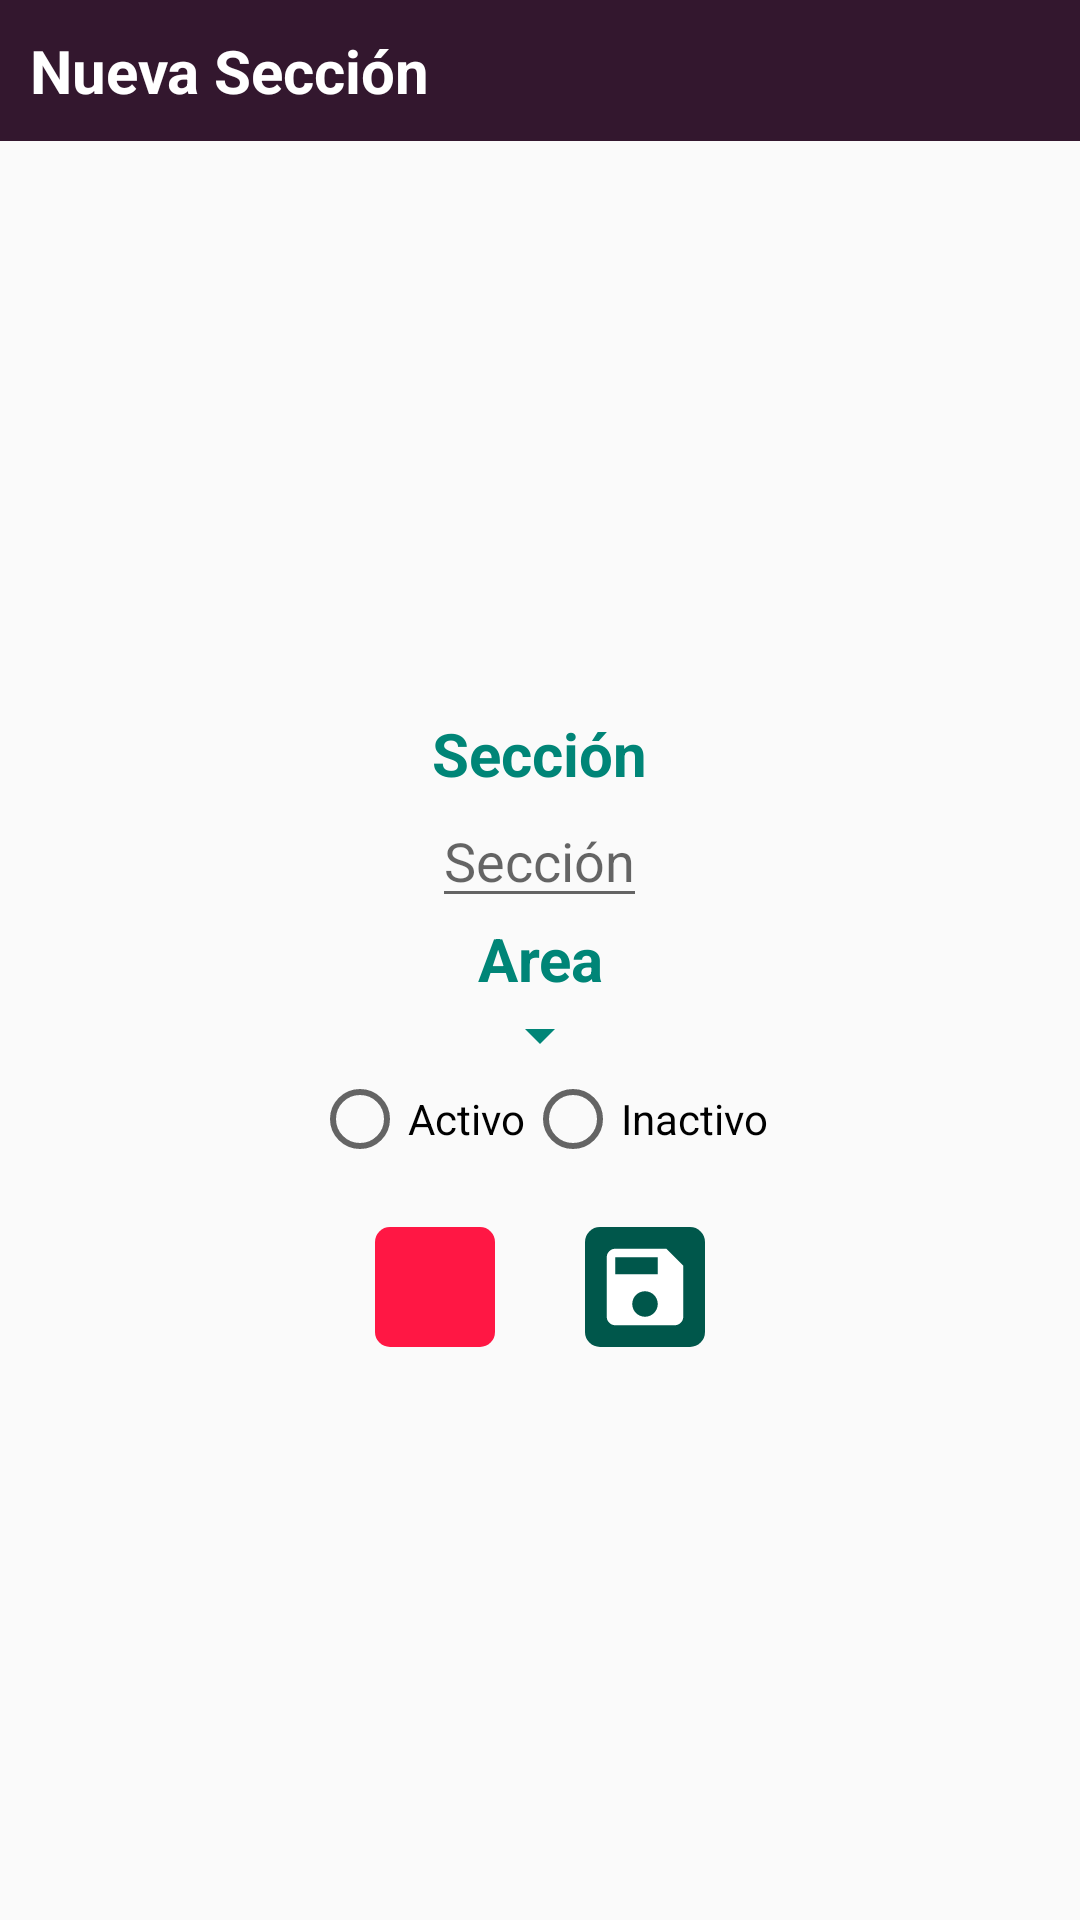

Named icons in this screenshot (1080px x 1920px) and their centers, point (x, y):
save: point (645, 1287)
